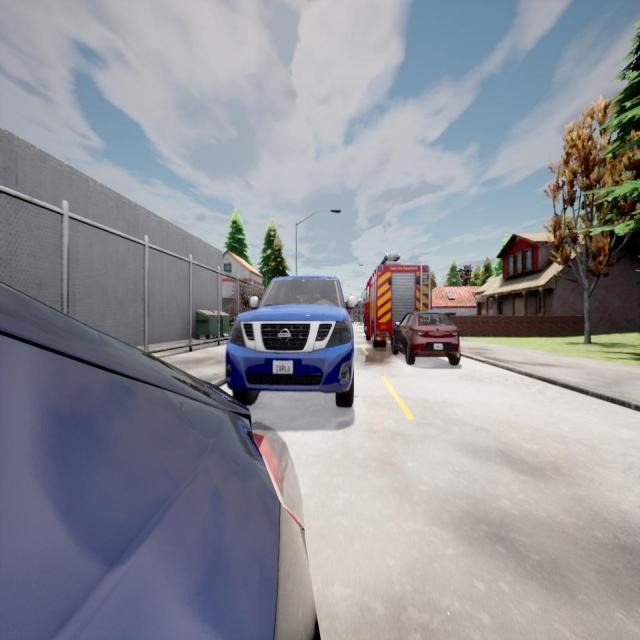Vehicle: (0, 288, 316, 640), (226, 277, 353, 403), (364, 254, 432, 347), (392, 311, 460, 364)
